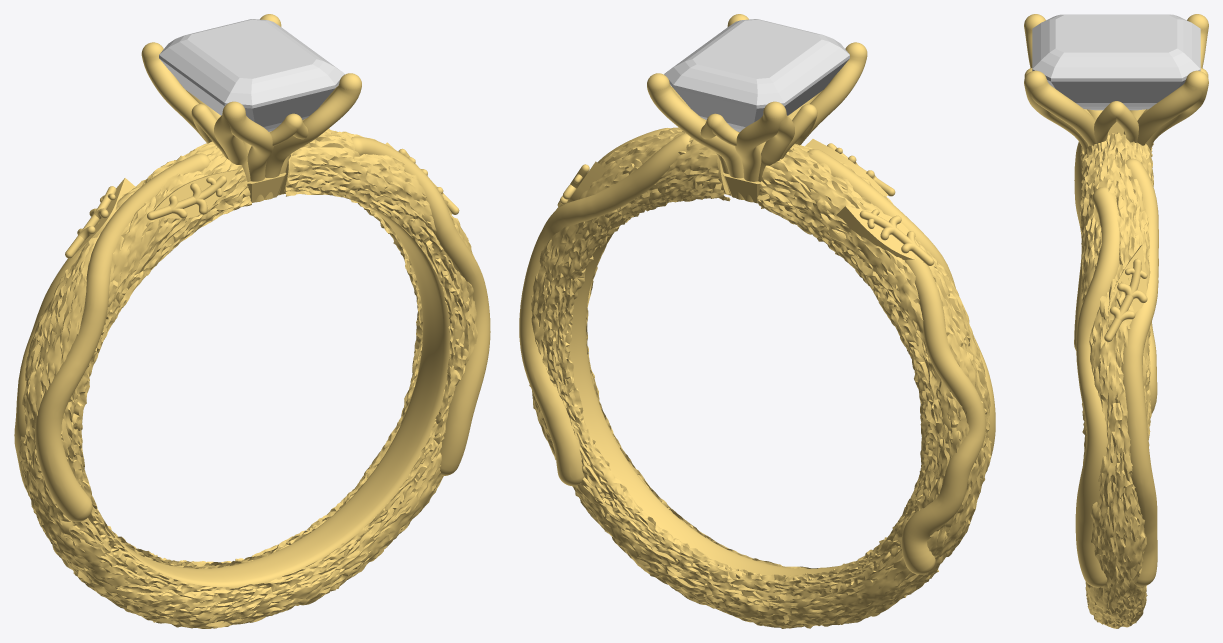
Rendered from HunterYGeng_blender.glb.
3 views of the same model, side by side, from view 1: azimuth 30°, elevation 25°; view 2: azimuth 150°, elevation 25°; view 3: azimuth 270°, elevation 25° (orthographic).
Visible parts, largest first — view 1: Hunter YG for 3d model, Hunter dia for 3d model; view 2: Hunter YG for 3d model, Hunter dia for 3d model; view 3: Hunter YG for 3d model, Hunter dia for 3d model.
Boxes of the visible parts, x1=… form: Hunter YG for 3d model: x1=14, y1=14, x2=490, y2=628; Hunter dia for 3d model: x1=159, y1=19, x2=344, y2=131; Hunter YG for 3d model: x1=519, y1=14, x2=995, y2=628; Hunter dia for 3d model: x1=664, y1=19, x2=849, y2=131; Hunter YG for 3d model: x1=1024, y1=14, x2=1208, y2=628; Hunter dia for 3d model: x1=1032, y1=14, x2=1200, y2=110.
Size of the model in its own units: 20.5 by 24.3 by 7.14.
